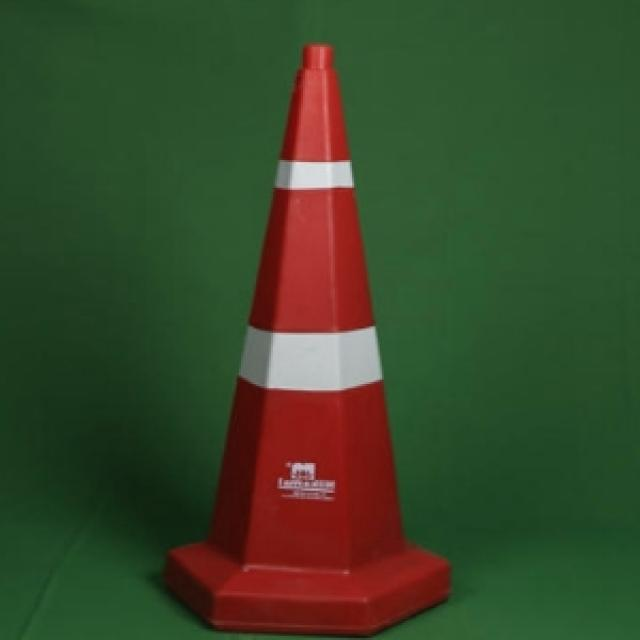cone: (169, 40, 452, 636)
